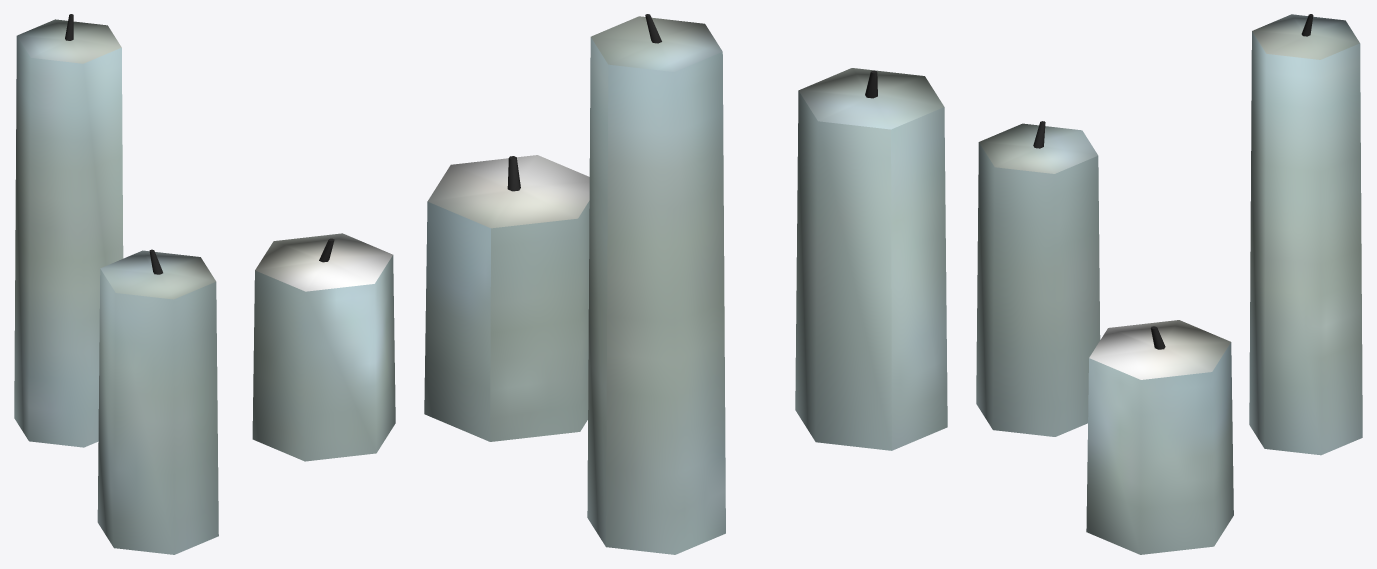
The model's file is MS_Candles.fbx.
3 views of the same model, side by side, from view 1: azimuth 30°, elevation 25°; view 2: azimuth 150°, elevation 25°; view 3: azimuth 270°, elevation 25° (orthographic). The views are drawn at different scales.
Parts seen in each view (by area): view 1: MSH_Candles; view 2: MSH_Candles; view 3: MSH_Candles.
Boxes of the visible parts, bbox=[...] form: MSH_Candles: bbox=[14, 14, 395, 554]; MSH_Candles: bbox=[424, 14, 947, 554]; MSH_Candles: bbox=[976, 14, 1362, 554].
Size of the model in its own units: 16.6 by 19 by 15.9.
